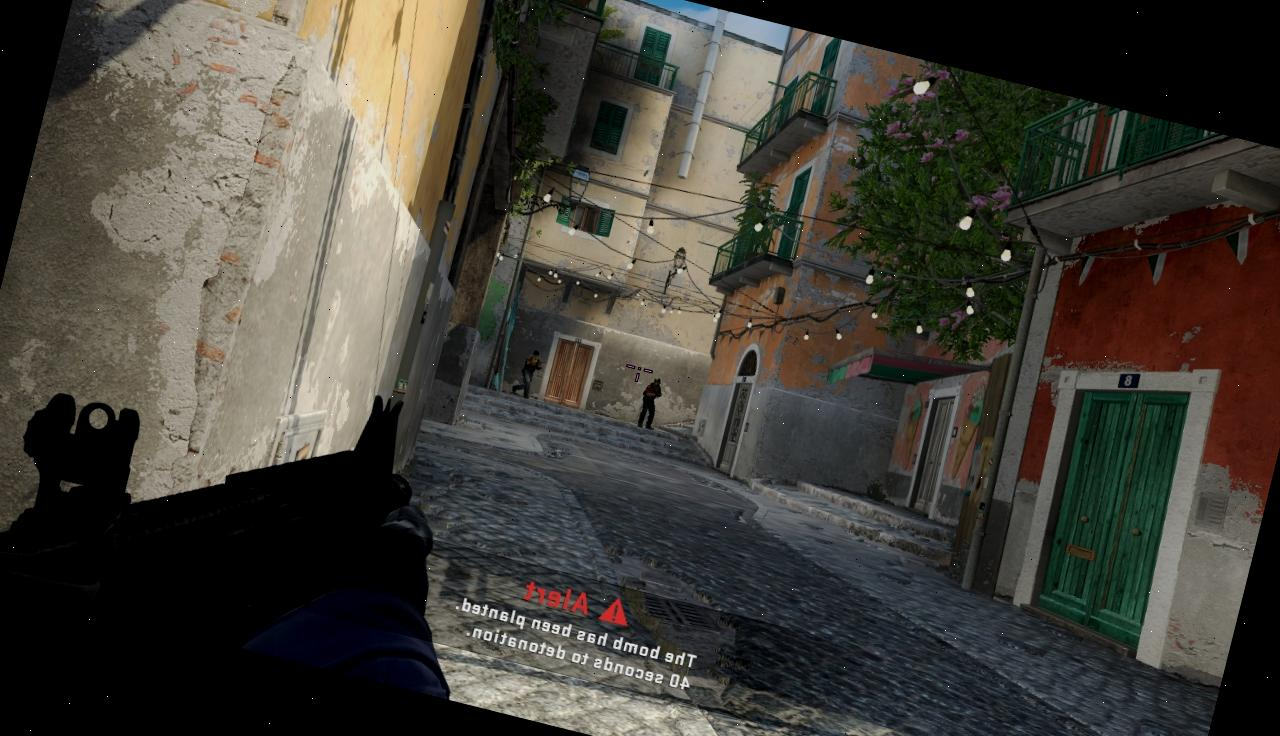rifle: (0, 302, 441, 681)
tt: (636, 375, 664, 429), (516, 348, 544, 398)
tthead: (652, 376, 661, 388), (532, 349, 541, 360)
